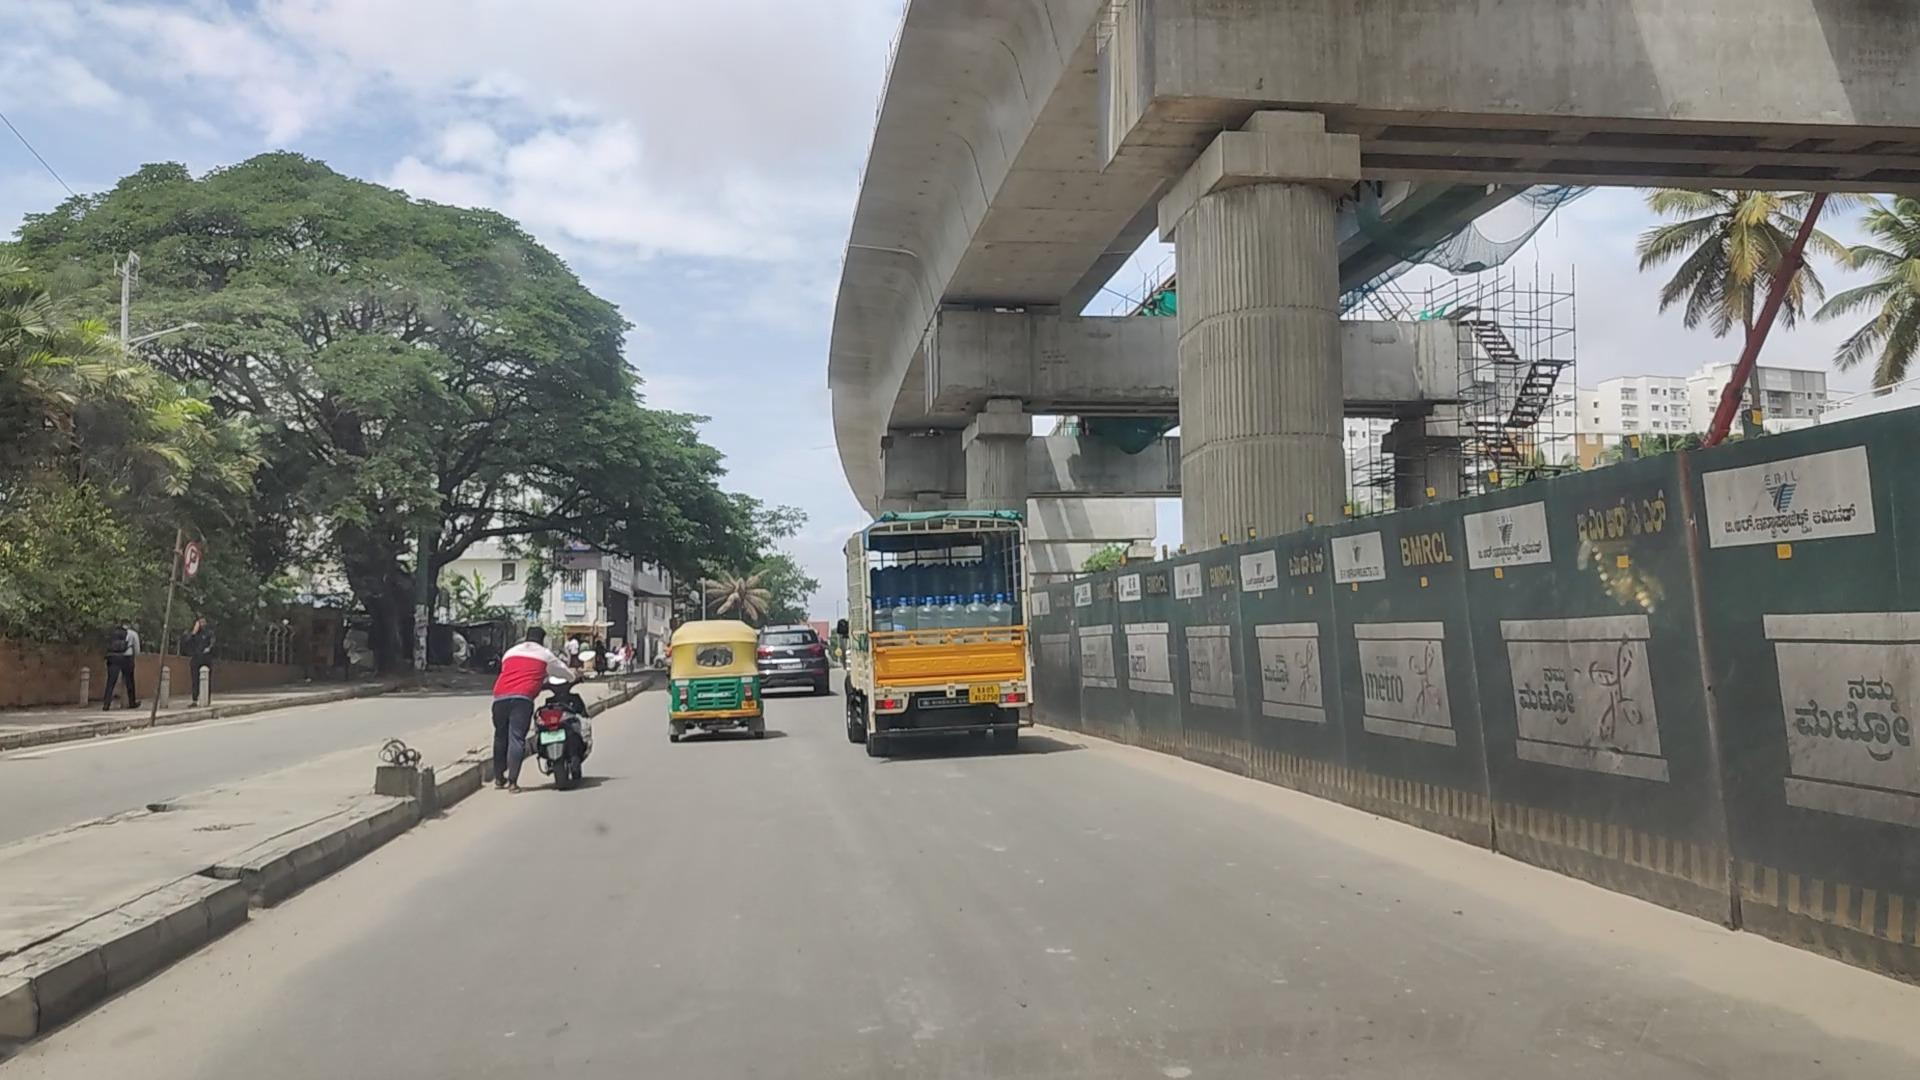HMV: (853, 516, 1027, 760)
LMV: (673, 618, 769, 737)
